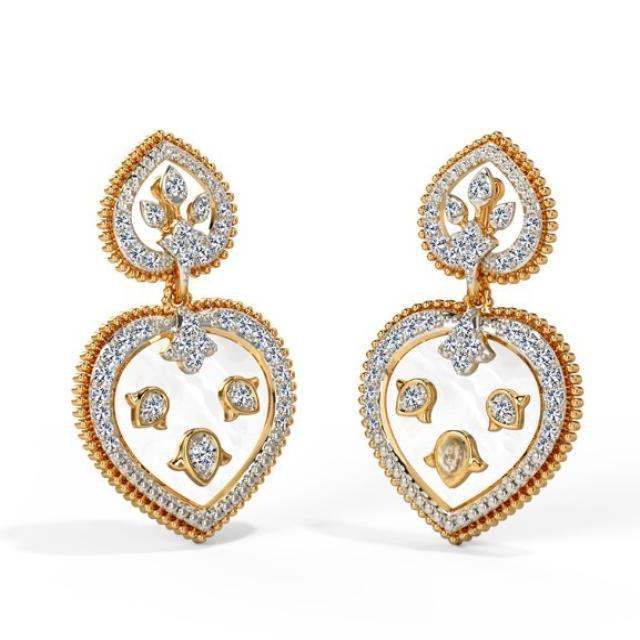missing gem: (438, 435, 472, 484)
